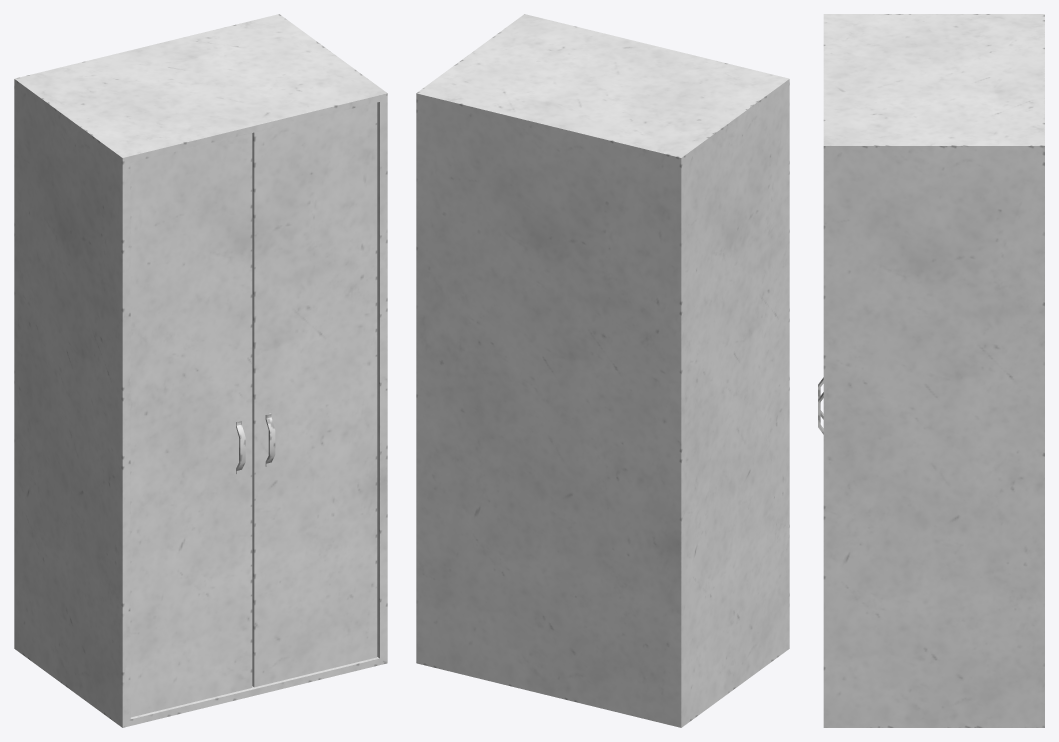
Rendered from M_Closet.fbx.
The picture shows the model from 3 angles, left to right: view 1: azimuth 30°, elevation 25°; view 2: azimuth 150°, elevation 25°; view 3: azimuth 270°, elevation 25°; orthographic projection. The views are drawn at different scales.
Visible parts, largest first — view 1: closet_GEO, closetR_GEO, closetL_GEO; view 2: closet_GEO; view 3: closet_GEO.
Boxes of the visible parts, left/top/right/bottom form: closet_GEO: left=14, top=14, right=387, bottom=727; closetR_GEO: left=252, top=102, right=377, bottom=687; closetL_GEO: left=130, top=133, right=252, bottom=717; closet_GEO: left=416, top=14, right=789, bottom=727; closet_GEO: left=823, top=14, right=1044, bottom=727.
Size of the model in its own units: 71.92 by 148 by 52.15.
Materials: 1 (1 with a texture image).
